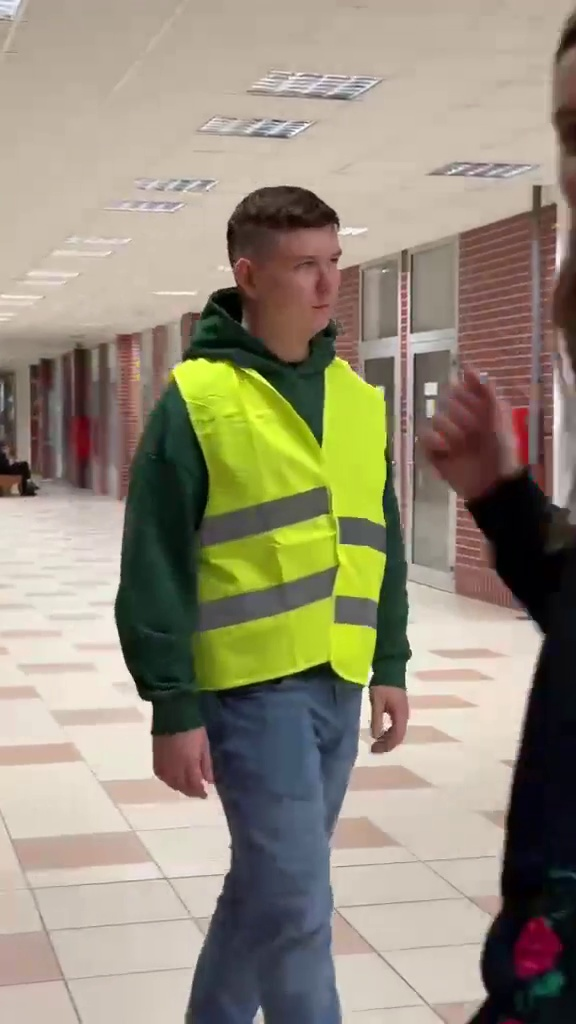vest: (112, 168, 405, 992)
